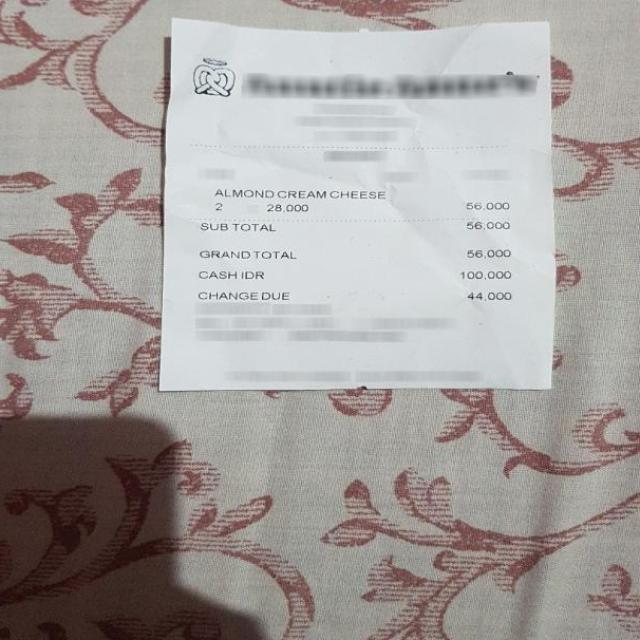kertas: (159, 18, 558, 395)
